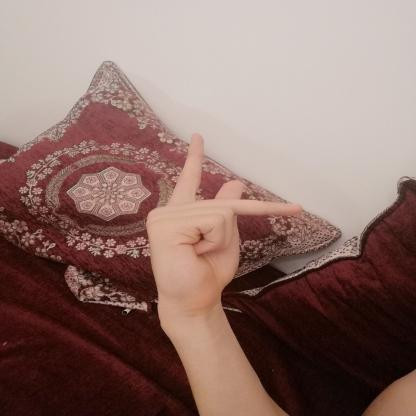DHAA: (135, 125, 317, 323)
